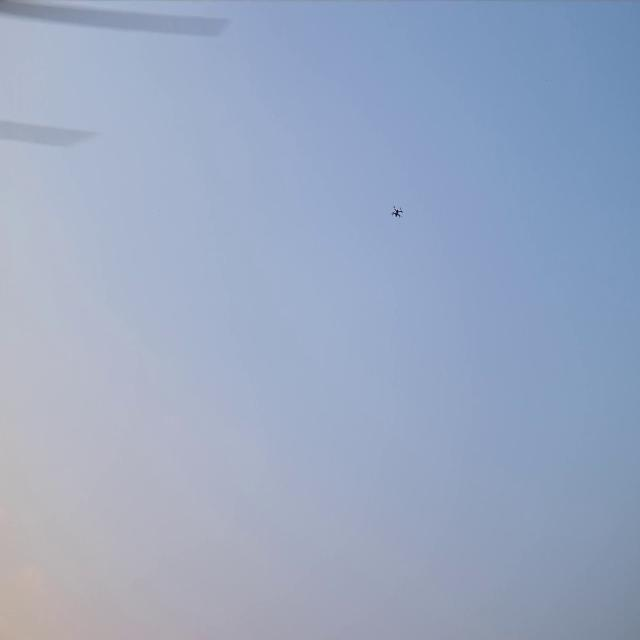UAV: (392, 206, 402, 216)
